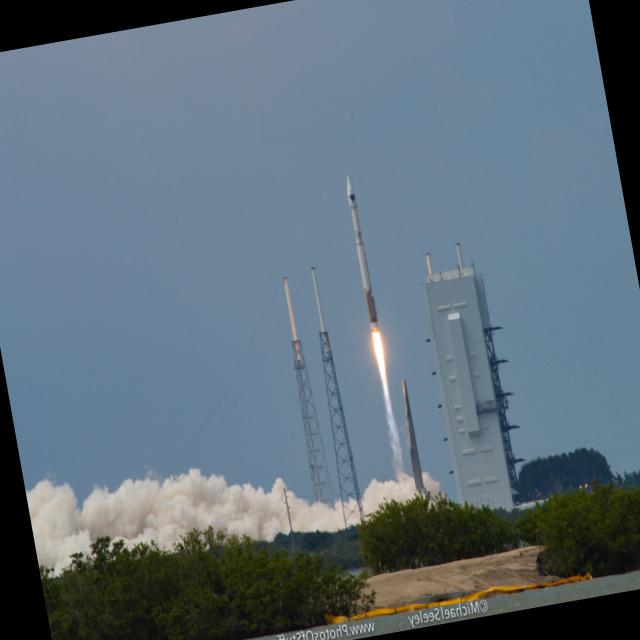rocket: (335, 173, 402, 417)
